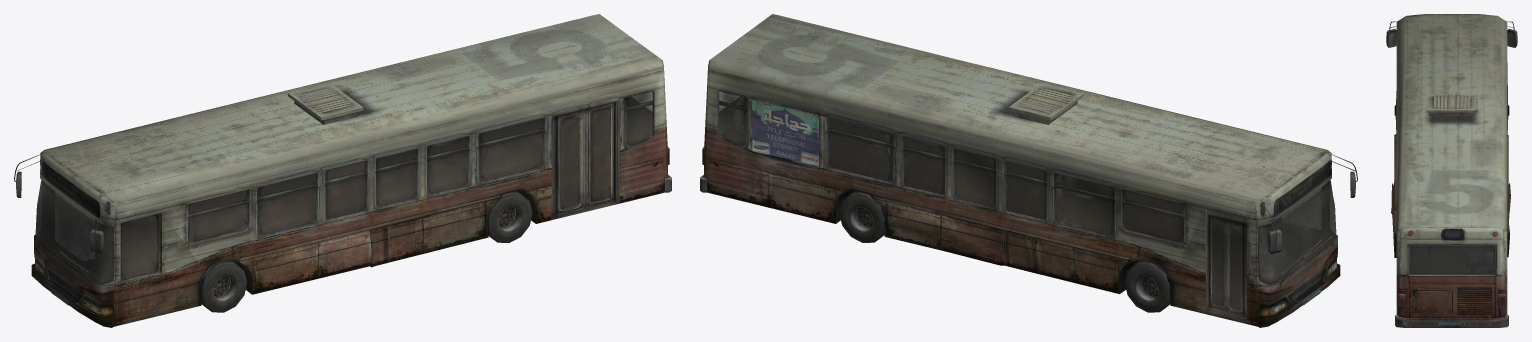
File: models__vehicles__civ_bus_lod_mdl_skin0.gltf
3 views of the same model, side by side, from view 1: azimuth 30°, elevation 25°; view 2: azimuth 150°, elevation 25°; view 3: azimuth 270°, elevation 25° (orthographic). The views are drawn at different scales.
Parts seen in each view (by area): view 1: models__vehicles__civ_bus_lod_mdl; view 2: models__vehicles__civ_bus_lod_mdl; view 3: models__vehicles__civ_bus_lod_mdl.
Boxes of the visible parts, bbox=[...] form: models__vehicles__civ_bus_lod_mdl: bbox=[14, 14, 671, 327]; models__vehicles__civ_bus_lod_mdl: bbox=[700, 14, 1357, 327]; models__vehicles__civ_bus_lod_mdl: bbox=[1386, 14, 1517, 327].
Size of the model in its own units: 16.79 by 4.2 by 4.17.
3 materials, 3 textured.
